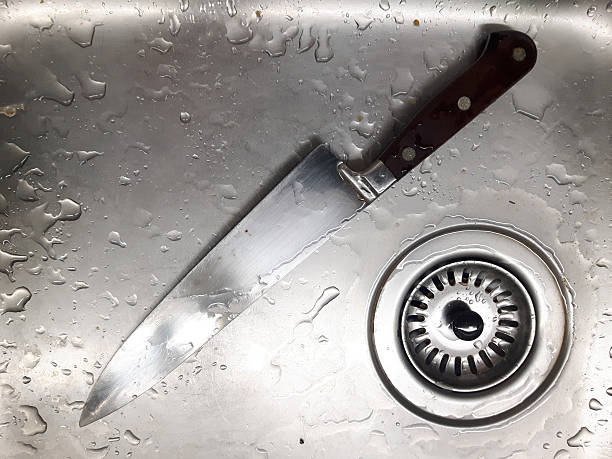knife: (79, 26, 539, 431)
